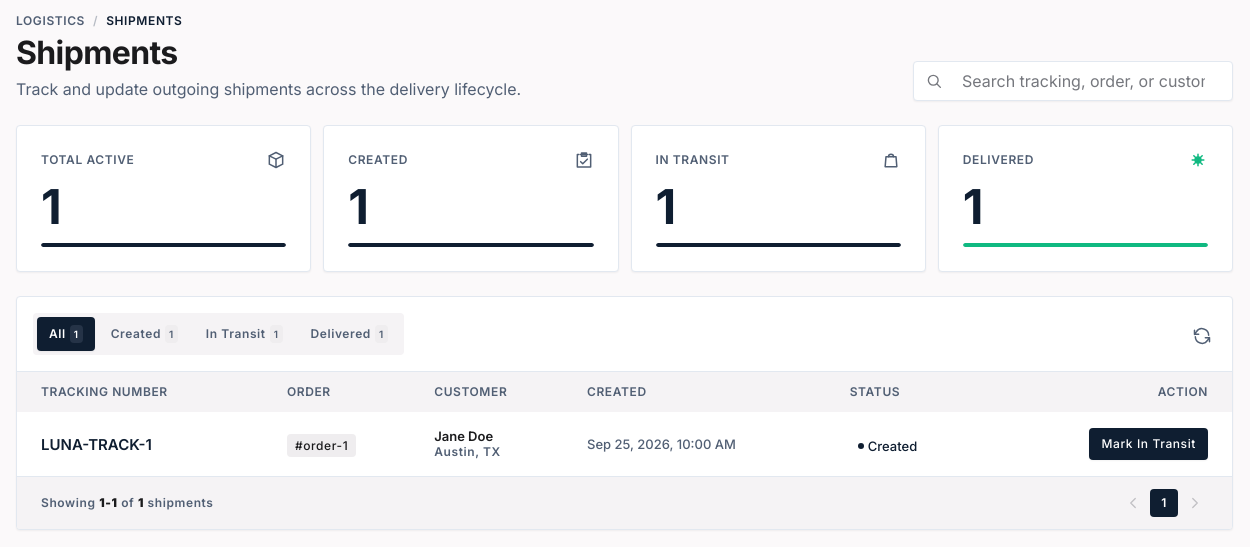
Test case: ShipmentQueue › shows the pending label while the in-transit command is running
Click the button "Mark In Transit".
click(1149, 444)  # box [1090,428,1208,460]
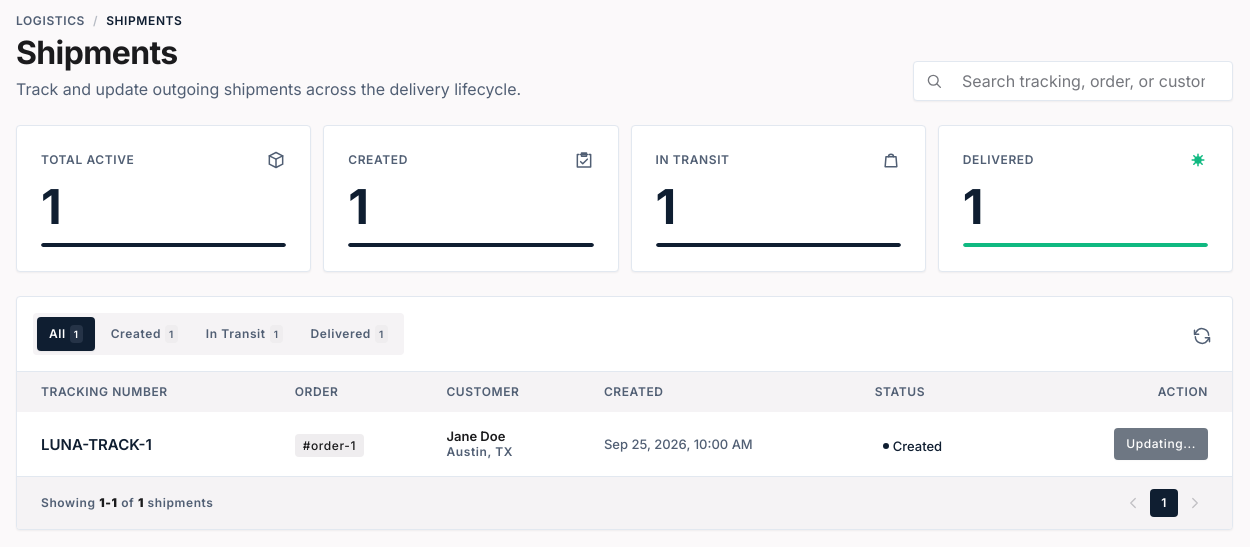
Now the button "Updating..." is disabled, box [1114,428,1208,460]
